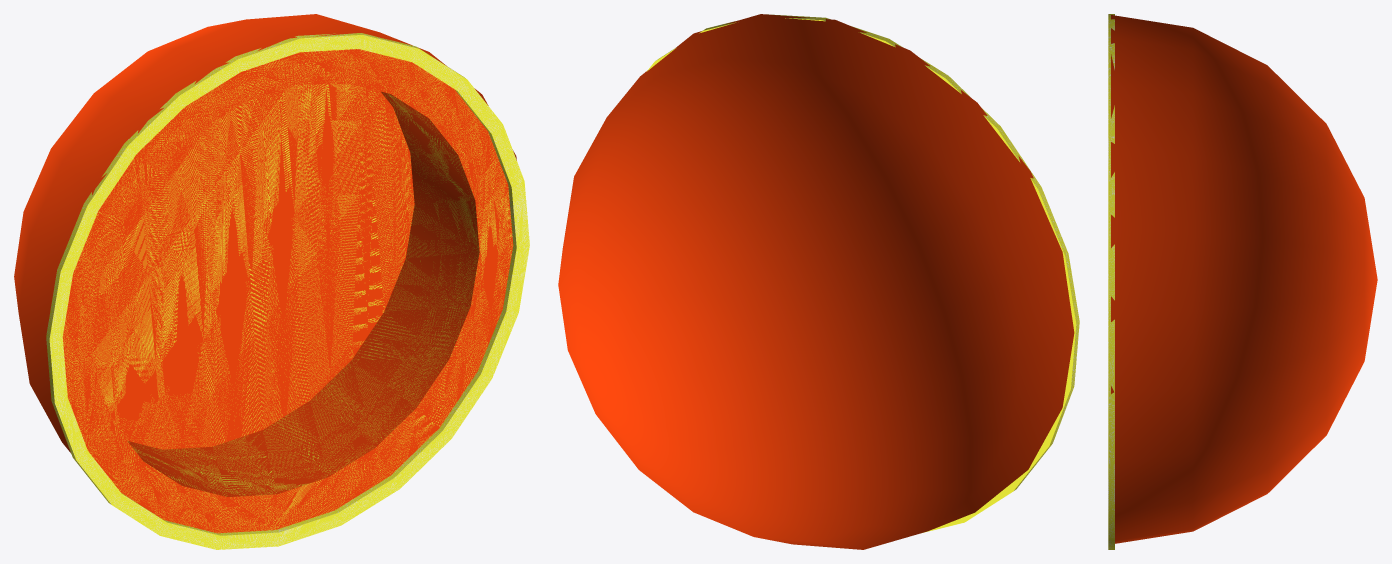
File: model_scale.obj
3 renders of one model, left to right at view 1: azimuth 30°, elevation 25°; view 2: azimuth 150°, elevation 25°; view 3: azimuth 270°, elevation 25°, orthographic. The views are drawn at different scales.
Visible parts, largest first — view 1: mesh2_mesh2-geometry, mesh1_mesh1-geometry; view 2: mesh1_mesh1-geometry, mesh2_mesh2-geometry; view 3: mesh1_mesh1-geometry, mesh2_mesh2-geometry.
Boxes of the visible parts, x1,y1,x2,y2 form: mesh2_mesh2-geometry: (46,33,529,549); mesh1_mesh1-geometry: (14,14,516,452); mesh1_mesh1-geometry: (558,14,1074,549); mesh2_mesh2-geometry: (646,14,1079,532); mesh1_mesh1-geometry: (1111,15,1377,543); mesh2_mesh2-geometry: (1108,14,1114,549).
Size of the model in its own units: 0.1521 by 0.1526 by 0.0765.
